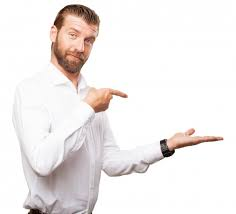hand: (163, 119, 227, 159)
